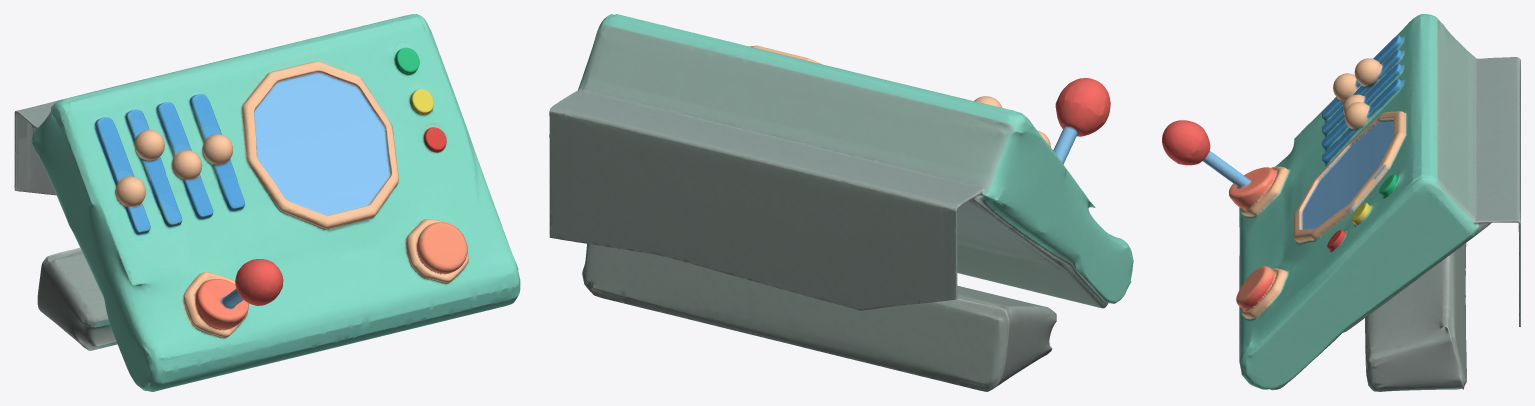
File: Meshy_AI_Pastel_Control_Deck_20261109_texture.fbx
The picture shows the model from 3 angles, left to right: view 1: azimuth 30°, elevation 25°; view 2: azimuth 150°, elevation 25°; view 3: azimuth 270°, elevation 25°; orthographic projection. The views are drawn at different scales.
Parts seen in each view (by area): view 1: Mesh_0; view 2: Mesh_0; view 3: Mesh_0.
Part boxes in pixels (x1,y1,x2,y2): Mesh_0: (14,14,520,391); Mesh_0: (549,14,1133,391); Mesh_0: (1162,14,1520,391).
Size of the model in its own units: 172 by 102 by 153.
Materials: 1 (1 with a texture image).
